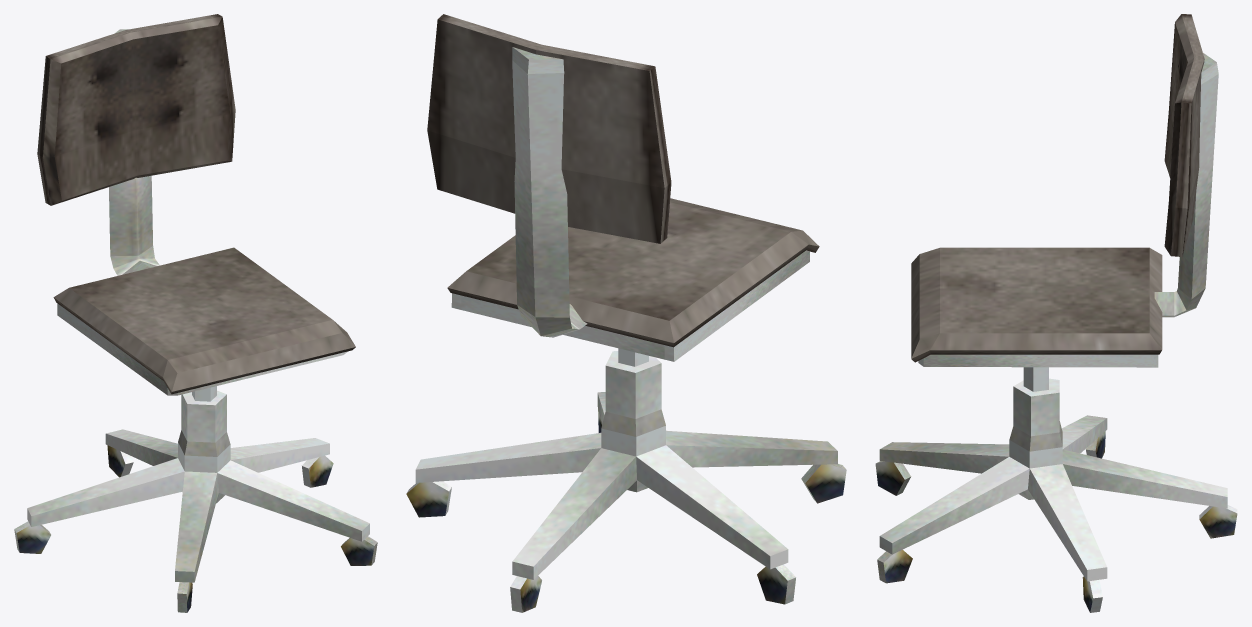
File: Chair.fbx
The picture shows the model from 3 angles, left to right: view 1: azimuth 30°, elevation 25°; view 2: azimuth 150°, elevation 25°; view 3: azimuth 270°, elevation 25°; orthographic projection. The views are drawn at different scales.
Visible parts, largest first — view 1: office_chair_grey_alt.002; view 2: office_chair_grey_alt.002; view 3: office_chair_grey_alt.002.
Boxes of the visible parts, x1=… form: office_chair_grey_alt.002: x1=14, y1=14, x2=377, y2=612; office_chair_grey_alt.002: x1=406, y1=14, x2=846, y2=612; office_chair_grey_alt.002: x1=875, y1=14, x2=1237, y2=612.
Bounding box in the file's own units: 90.97 × 125 × 85.12.
